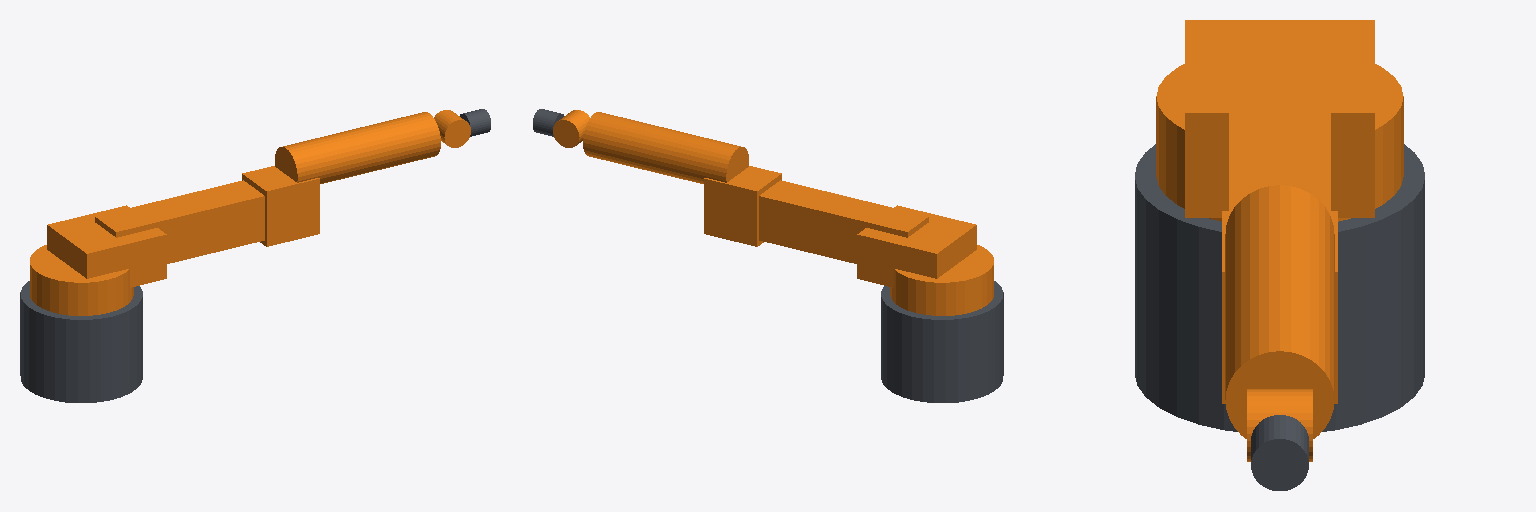
URDF robot description (generic_6r):
<robot name="generic_6r">
  <link name="base_link"><visual><origin xyz="0 0 0.15" rpy="0 0 0"/><geometry><cylinder radius="0.2" length="0.3"/></geometry><material name="c885"><color rgba="0.35 0.37 0.40 1"/></material></visual><collision><origin xyz="0 0 0.15" rpy="0 0 0"/><geometry><cylinder radius="0.2" length="0.3"/></geometry></collision><inertial><mass value="1"/><inertia ixx="0.01" iyy="0.01" izz="0.01" ixy="0" ixz="0" iyz="0"/></inertial></link>
  <link name="link_1"><visual><origin xyz="0 0 0.36" rpy="0 0 0"/><geometry><cylinder radius="0.17" length="0.12"/></geometry><material name="c943"><color rgba="0.95 0.55 0.15 1"/></material></visual><collision><origin xyz="0 0 0.36" rpy="0 0 0"/><geometry><cylinder radius="0.17" length="0.12"/></geometry></collision><visual><origin xyz="0.095 0 0.43" rpy="0 0 0"/><geometry><box size="0.3 0.26 0.16"/></geometry><material name="c943"><color rgba="0.95 0.55 0.15 1"/></material></visual><collision><origin xyz="0.095 0 0.43" rpy="0 0 0"/><geometry><box size="0.3 0.26 0.16"/></geometry></collision><inertial><mass value="1"/><inertia ixx="0.01" iyy="0.01" izz="0.01" ixy="0" ixz="0" iyz="0"/></inertial></link>
  <link name="link_2"><visual><origin xyz="0 0 0.3" rpy="0 0 0"/><geometry><box size="0.16 0.14 0.72"/></geometry><material name="c943"><color rgba="0.95 0.55 0.15 1"/></material></visual><collision><origin xyz="0 0 0.3" rpy="0 0 0"/><geometry><box size="0.16 0.14 0.72"/></geometry></collision><inertial><mass value="1"/><inertia ixx="0.01" iyy="0.01" izz="0.01" ixy="0" ixz="0" iyz="0"/></inertial></link>
  <link name="link_3"><visual><origin xyz="0 0 0" rpy="0 0 0"/><geometry><box size="0.2 0.16 0.2"/></geometry><material name="c943"><color rgba="0.95 0.55 0.15 1"/></material></visual><collision><origin xyz="0 0 0" rpy="0 0 0"/><geometry><box size="0.2 0.16 0.2"/></geometry></collision><visual><origin xyz="-0.12 0 0.29" rpy="0 0 0"/><geometry><cylinder radius="0.075" length="0.54"/></geometry><material name="c943"><color rgba="0.95 0.55 0.15 1"/></material></visual><collision><origin xyz="-0.12 0 0.29" rpy="0 0 0"/><geometry><cylinder radius="0.075" length="0.54"/></geometry></collision><inertial><mass value="1"/><inertia ixx="0.01" iyy="0.01" izz="0.01" ixy="0" ixz="0" iyz="0"/></inertial></link>
  <link name="link_4"><visual><origin xyz="0 0 -0.14" rpy="0 0 0"/><geometry><cylinder radius="0.065" length="0.12"/></geometry><material name="c943"><color rgba="0.95 0.55 0.15 1"/></material></visual><collision><origin xyz="0 0 -0.14" rpy="0 0 0"/><geometry><cylinder radius="0.065" length="0.12"/></geometry></collision><inertial><mass value="1"/><inertia ixx="0.01" iyy="0.01" izz="0.01" ixy="0" ixz="0" iyz="0"/></inertial></link>
  <link name="link_5"><visual><origin xyz="0 0 0" rpy="1.5708 0 0"/><geometry><cylinder radius="0.05" length="0.09"/></geometry><material name="c943"><color rgba="0.95 0.55 0.15 1"/></material></visual><collision><origin xyz="0 0 0" rpy="1.5708 0 0"/><geometry><cylinder radius="0.05" length="0.09"/></geometry></collision><inertial><mass value="1"/><inertia ixx="0.01" iyy="0.01" izz="0.01" ixy="0" ixz="0" iyz="0"/></inertial></link>
  <link name="link_6"><visual><origin xyz="0 0 0.091" rpy="0 0 0"/><geometry><cylinder radius="0.04" length="0.078"/></geometry><material name="c885"><color rgba="0.35 0.37 0.40 1"/></material></visual><collision><origin xyz="0 0 0.091" rpy="0 0 0"/><geometry><cylinder radius="0.04" length="0.078"/></geometry></collision><inertial><mass value="1"/><inertia ixx="0.01" iyy="0.01" izz="0.01" ixy="0" ixz="0" iyz="0"/></inertial></link>
  <link name="tool0"></link>
  <joint name="joint_1" type="revolute"><parent link="base_link"/><child link="link_1"/><origin xyz="0 0 0" rpy="0 0 -0"/><axis xyz="0 0 -1"/><limit lower="-3.14159265" upper="3.14159265" effort="1000" velocity="3"/></joint>
  <joint name="joint_2" type="revolute"><parent link="link_1"/><child link="link_2"/><origin xyz="0.15 0.0 0.45" rpy="0 1.57079633 0"/><axis xyz="0 1 0"/><limit lower="-2.61799388" upper="2.61799388" effort="1000" velocity="3"/></joint>
  <joint name="joint_3" type="revolute"><parent link="link_2"/><child link="link_3"/><origin xyz="0 0 0.6" rpy="0 -0 0"/><axis xyz="0 1 0"/><limit lower="-2.61799388" upper="2.61799388" effort="1000" velocity="3"/></joint>
  <joint name="joint_4" type="revolute"><parent link="link_3"/><child link="link_4"/><origin xyz="-0.12 0 0.64" rpy="0 0 -0"/><axis xyz="0 0 -1"/><limit lower="-6.10865238" upper="6.10865238" effort="1000" velocity="3"/></joint>
  <joint name="joint_5" type="revolute"><parent link="link_4"/><child link="link_5"/><origin xyz="0 0 0" rpy="0 -0 0"/><axis xyz="0 1 0"/><limit lower="-2.18166156" upper="2.18166156" effort="1000" velocity="3"/></joint>
  <joint name="joint_6" type="revolute"><parent link="link_5"/><child link="link_6"/><origin xyz="0 0 0" rpy="0 0 -0"/><axis xyz="0 0 -1"/><limit lower="-6.10865238" upper="6.10865238" effort="1000" velocity="3"/></joint>
  <joint name="flange" type="fixed"><parent link="link_6"/><child link="tool0"/><origin xyz="0 0 0.13" rpy="0 0 0"/></joint>
</robot>

--- Facts derived from the render (not from the file) ---
3 views of the same robot in one strip: view 1: azimuth 30°, elevation 25°; view 2: azimuth 150°, elevation 25°; view 3: azimuth 270°, elevation 25° (orthographic).
Robot: generic_6r — 8 links, 7 joints (6 revolute, 1 fixed); root link base_link; default pose: all joints at 0.
Links seen in each view (by area): view 1: base_link, link_3, link_1, link_2, link_5, link_6; view 2: base_link, link_3, link_1, link_2, link_5, link_6; view 3: base_link, link_1, link_3, link_2, link_6, link_5.
Boxes of the visible links, bbox=[...] form: base_link: bbox=[20, 281, 142, 402]; link_3: bbox=[242, 112, 440, 246]; link_1: bbox=[30, 205, 166, 315]; link_2: bbox=[95, 180, 264, 263]; link_5: bbox=[434, 110, 470, 147]; link_6: bbox=[460, 109, 490, 136]; base_link: bbox=[881, 281, 1003, 402]; link_3: bbox=[583, 112, 781, 246]; link_1: bbox=[857, 205, 993, 315]; link_2: bbox=[759, 180, 928, 263]; link_5: bbox=[553, 110, 589, 147]; link_6: bbox=[533, 109, 563, 136]; base_link: bbox=[1135, 144, 1424, 431]; link_1: bbox=[1156, 20, 1403, 221]; link_3: bbox=[1222, 185, 1337, 438]; link_2: bbox=[1229, 52, 1330, 210]; link_6: bbox=[1251, 415, 1308, 490]; link_5: bbox=[1247, 389, 1312, 461].
Size in the robot's own frame: 1.72 by 0.4 by 0.645 metres.
Geometry: primitives only (box / cylinder / sphere), no mesh files.
